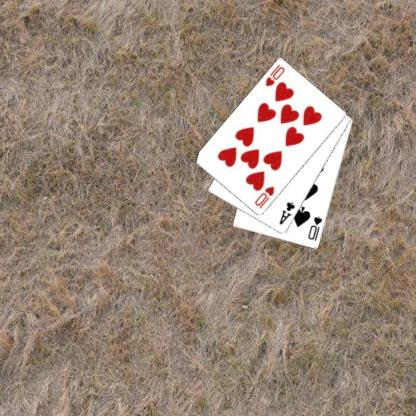10H: (252, 183, 276, 210), (262, 62, 286, 88)
10S: (305, 214, 324, 243)
AC: (276, 200, 296, 226)
